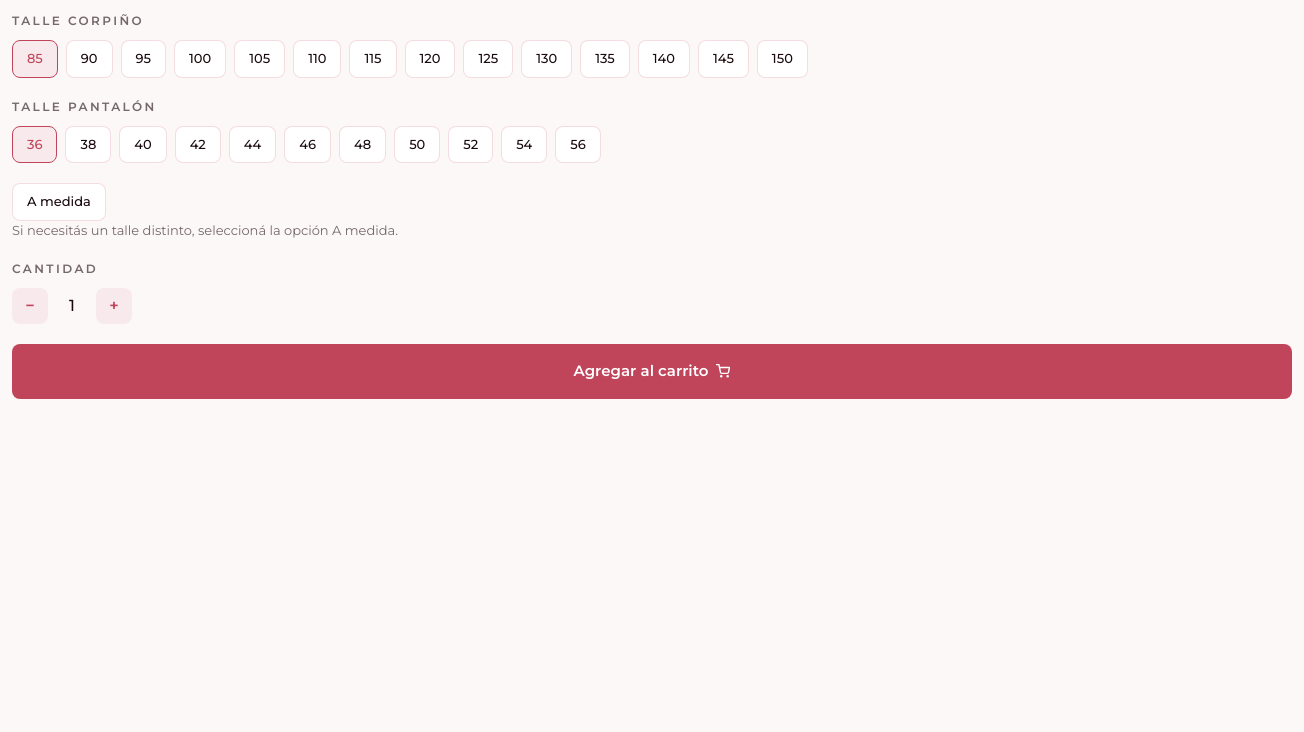
it: AddToCart — standard category (sets) › blocks adding to cart when A medida fields are empty
What coordinates should you click on to do the following:
click the button "A medida"
I would click on:
 (59, 202)
Its box is [12, 183, 106, 220].
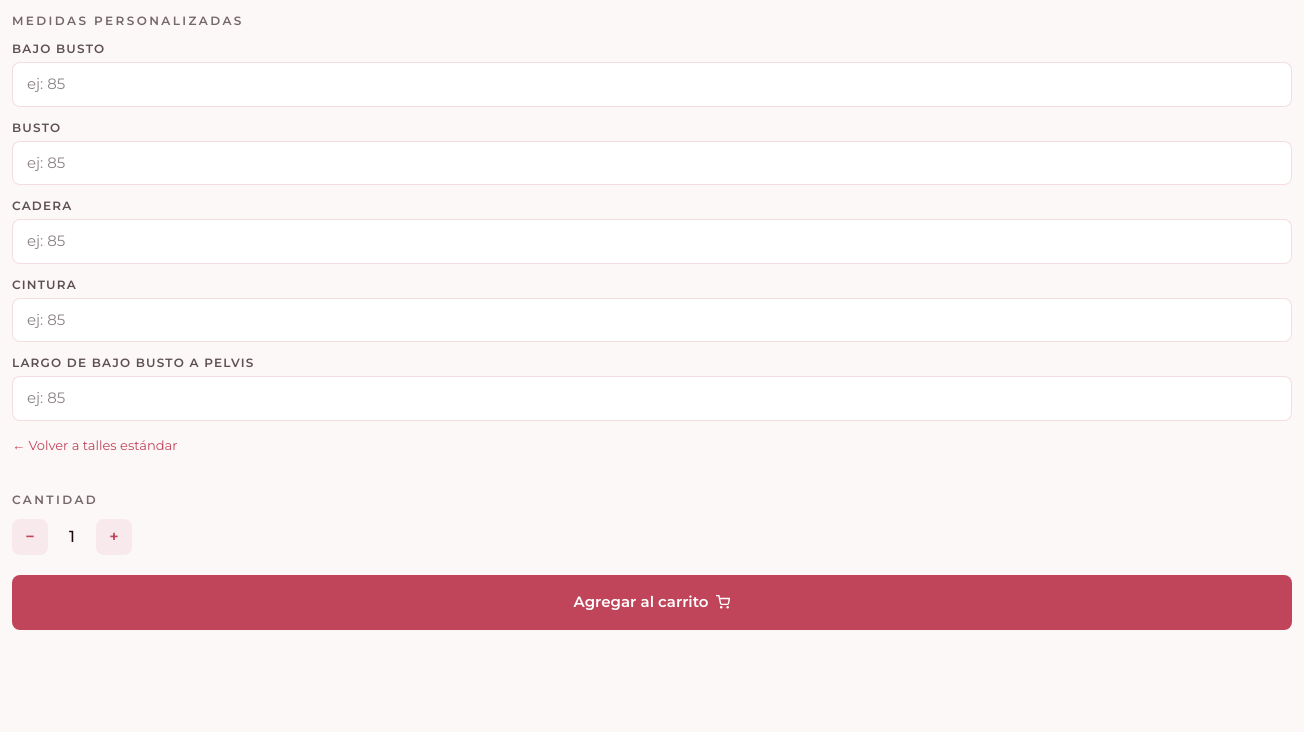
What coordinates should you click on to do the following:
click the button "Agregar al carrito"
I would click on:
 (652, 602)
Its box is [12, 575, 1292, 630].
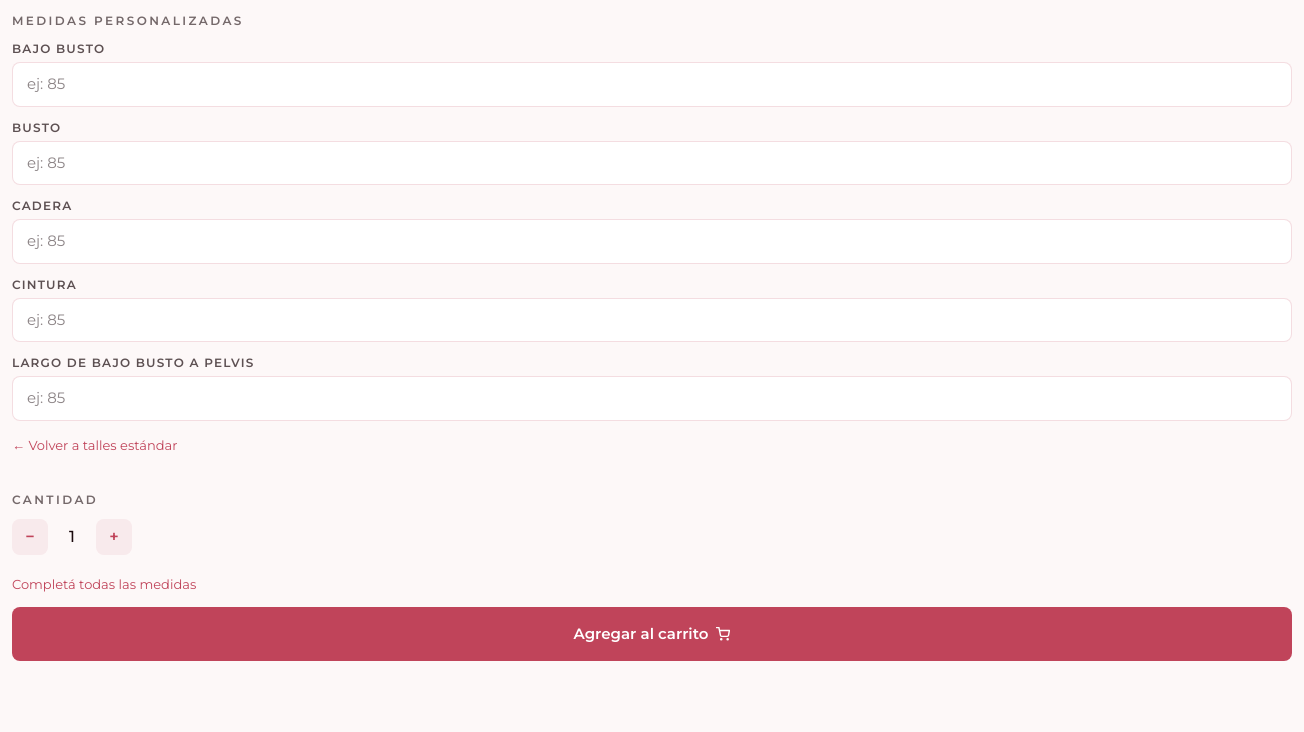
Expected: the text "Completá todas las medidas" is shown, [12, 576, 196, 592]
